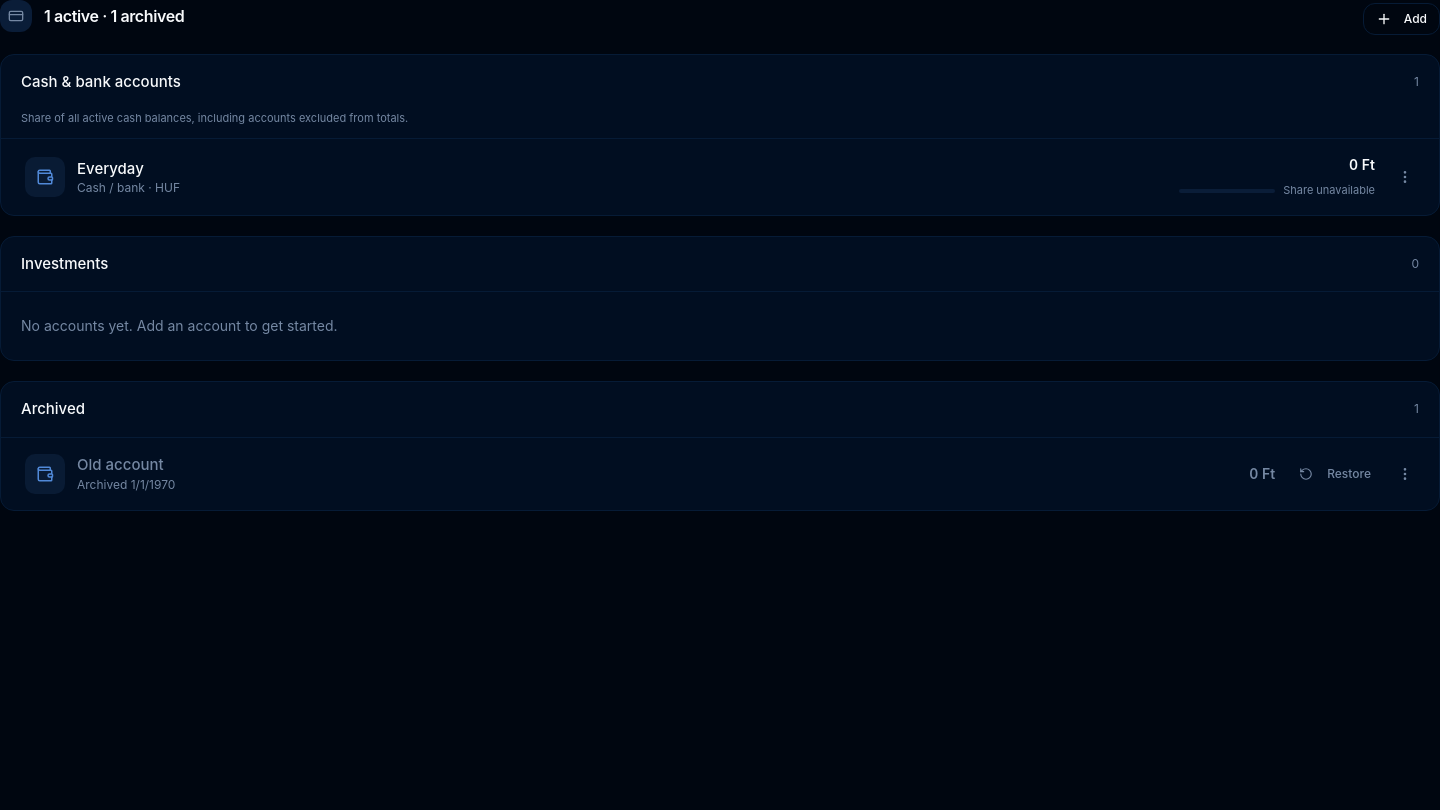
Test case: dedicated account management › tracks semantic changes and reverts all saved fields without writing
Click the button with aria-label "Edit Everyday". click: (45, 177)
box: [17, 147, 1383, 207]
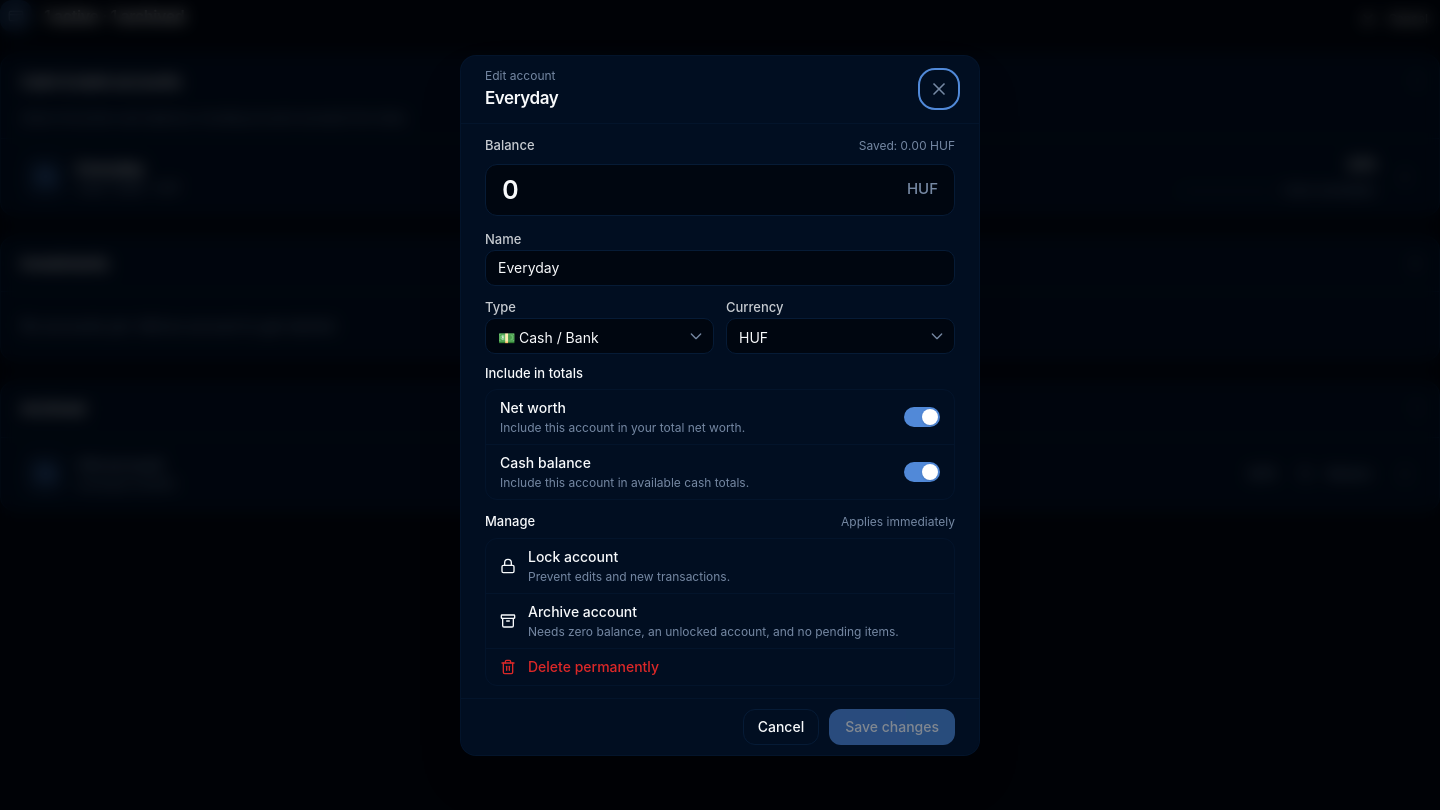
Expected: the button "Save changes" is disabled, [829, 708, 955, 744]
Type "0,00" into the field labelled "Balance". click: (699, 190)
box: [502, 170, 897, 209]
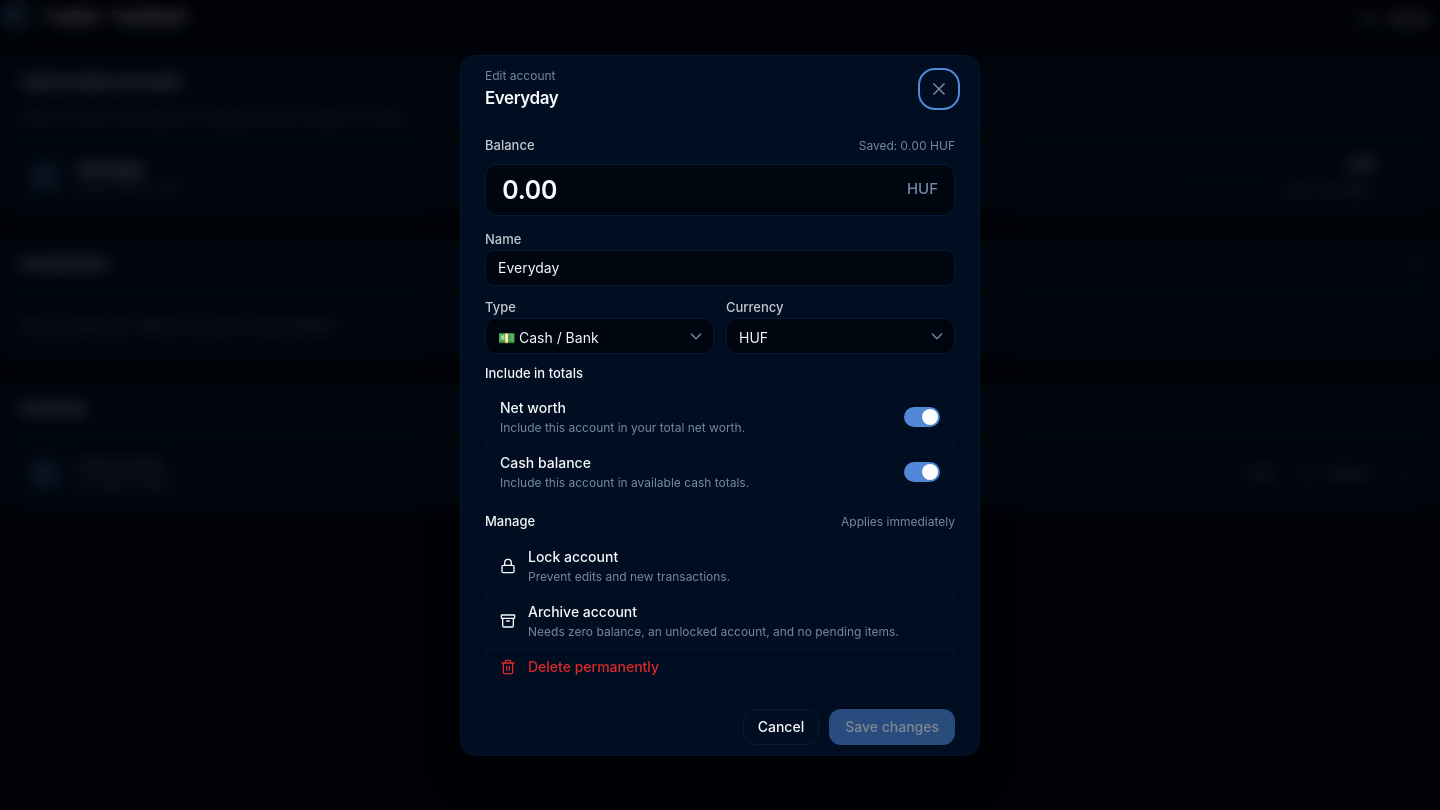
Expected: the button "Save changes" is disabled, [829, 708, 955, 744]
Replace the text in the field labelled "Name" with "Draft". click: (720, 268)
box: [485, 250, 955, 286]
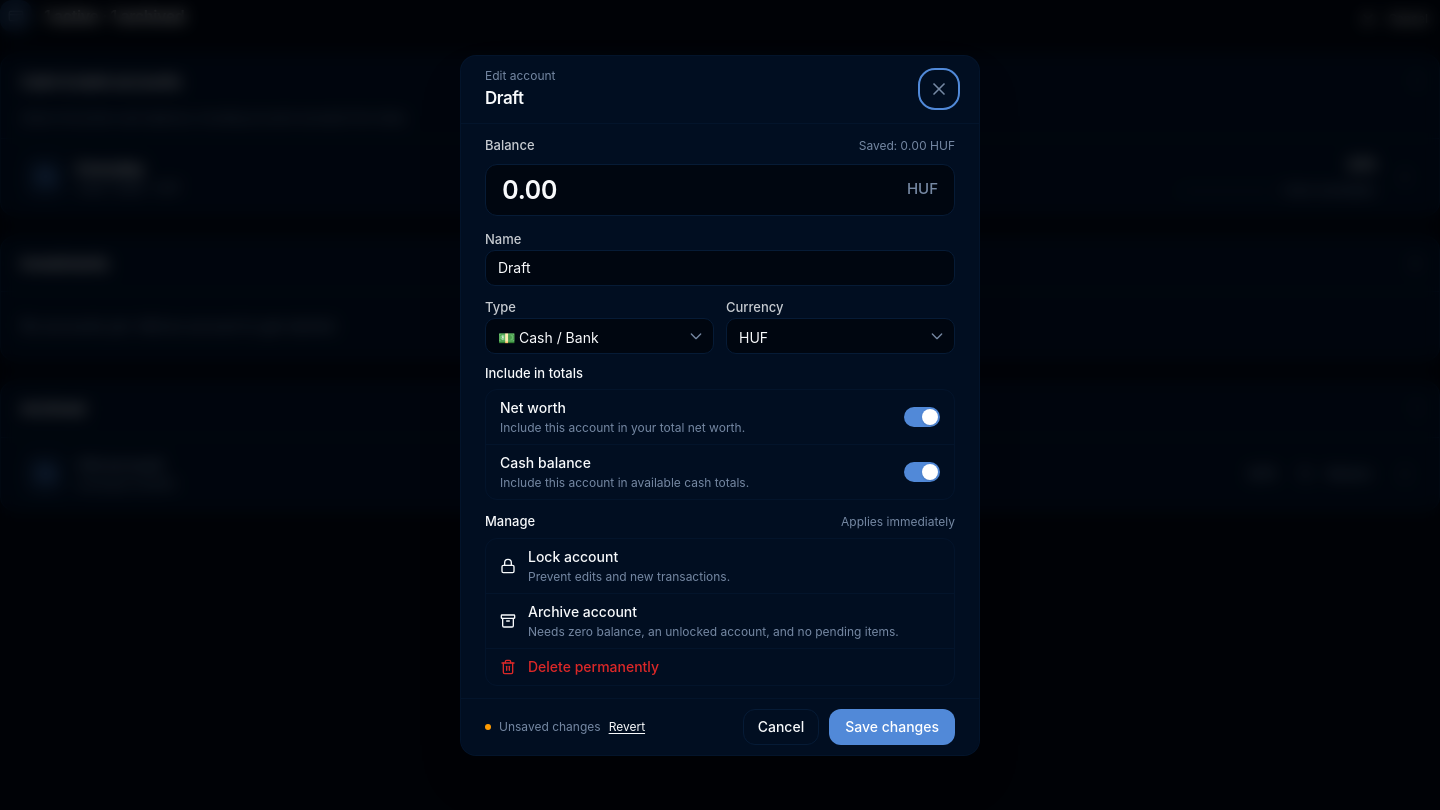
Select "EUR" in the dropdown labelled "Currency". click: (840, 336)
box: [726, 318, 955, 354]
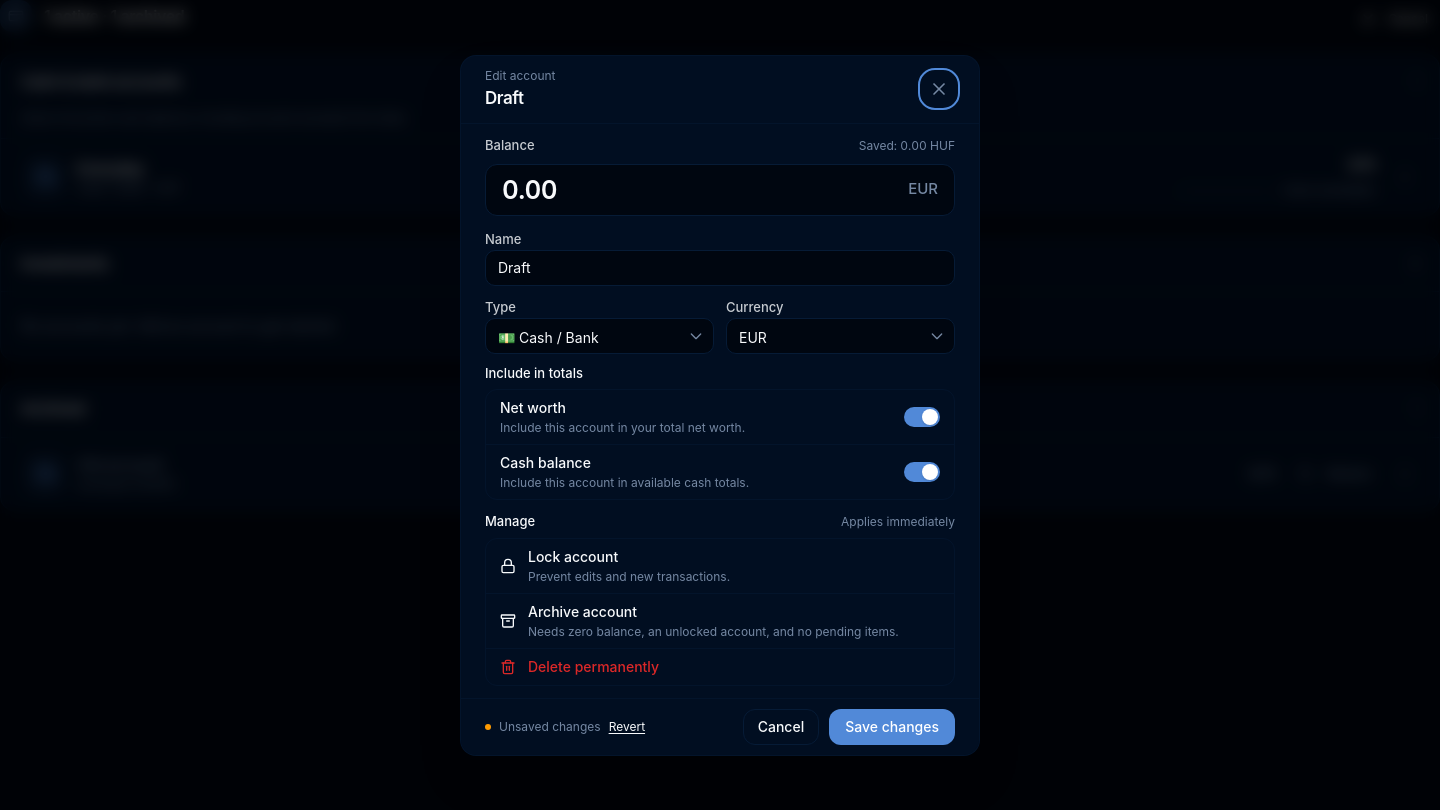
Click the switch labelled "Cash balance". click: (720, 472)
box: [486, 445, 954, 499]
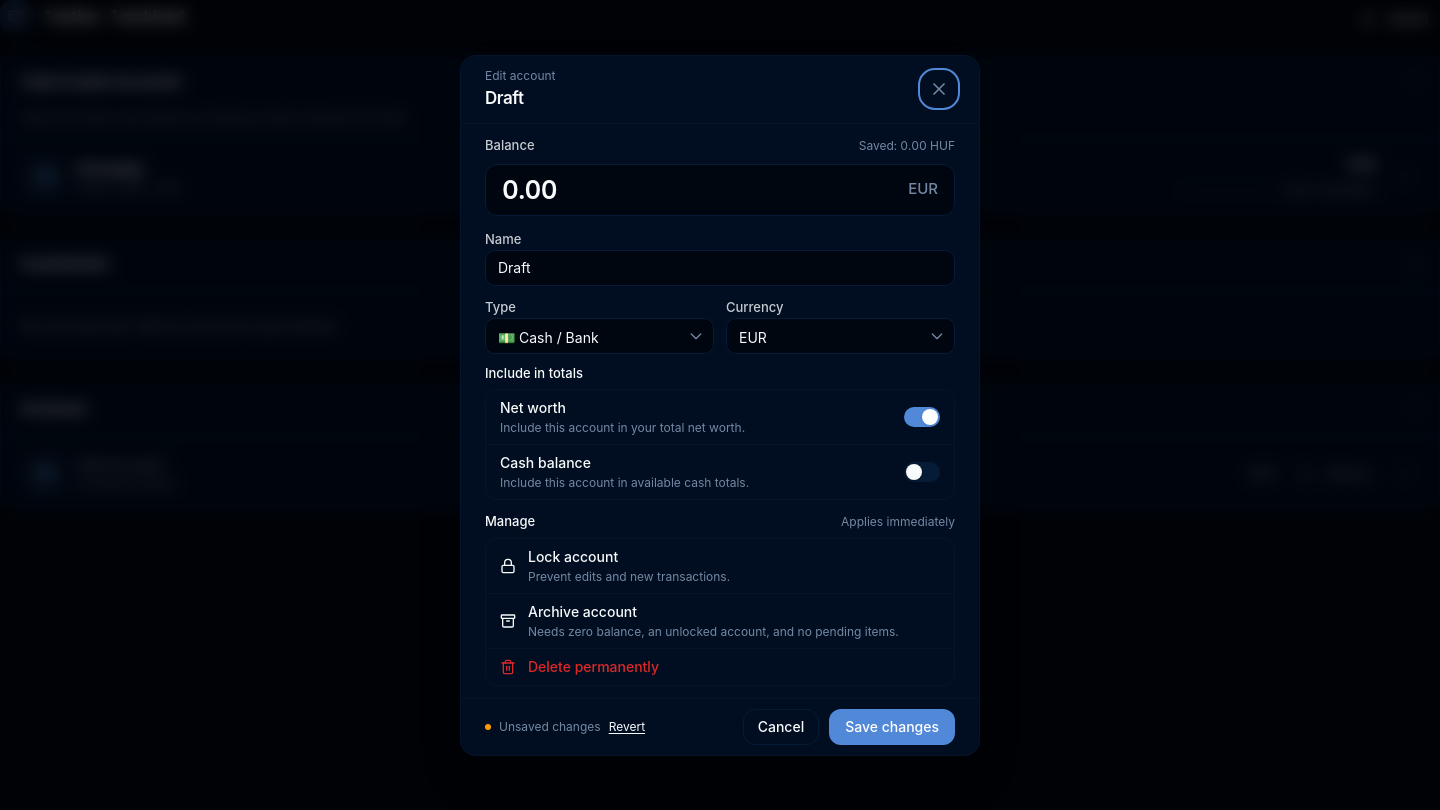
Expected: the text "Unsaved changes" is shown, [499, 718, 601, 734]
Expected: the button "Save changes" is enabled, [829, 708, 955, 744]
Click the button "Revert". click: (627, 726)
box: [609, 718, 645, 734]
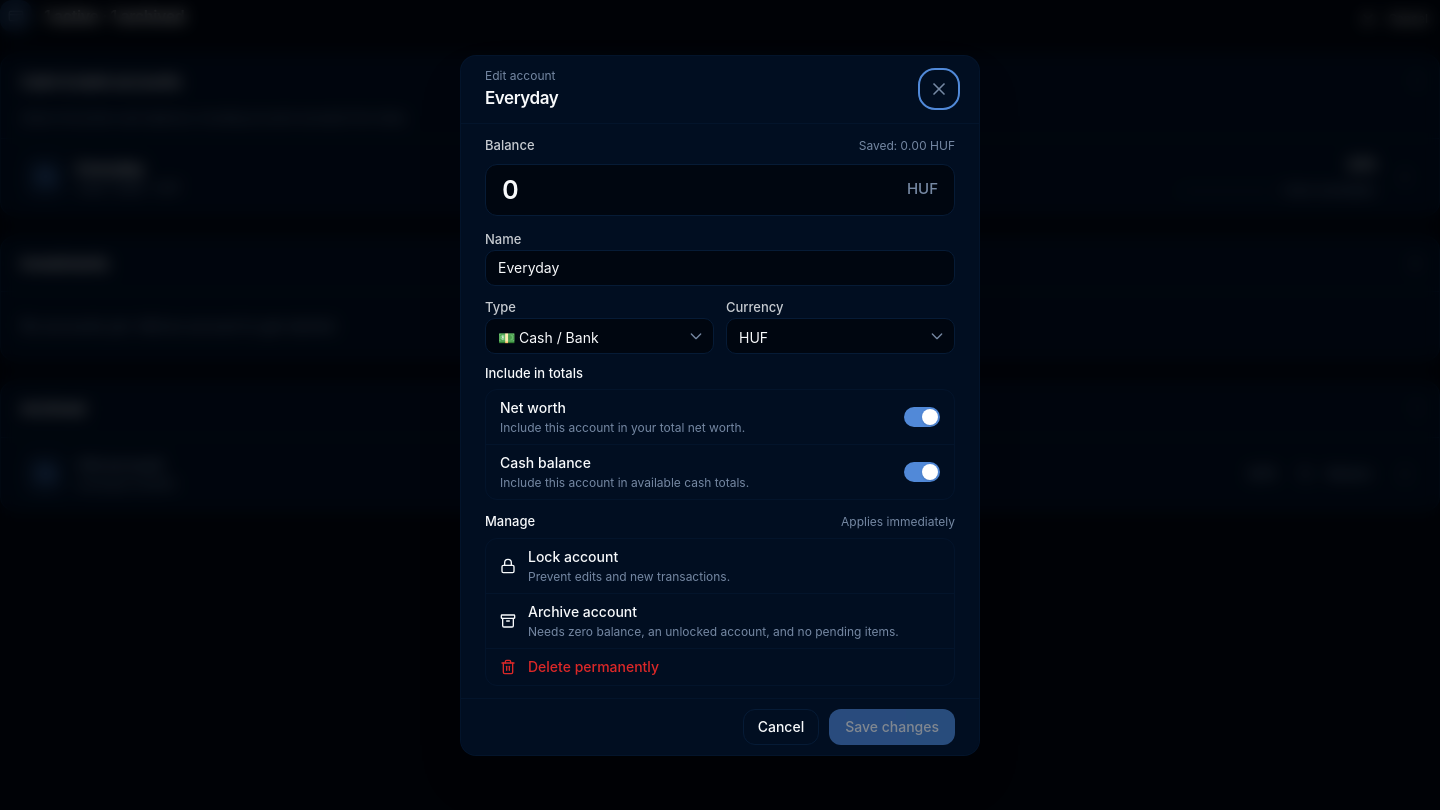
Expected: the switch labelled "Cash balance" is checked, [486, 445, 954, 499]
Expected: the field labelled "Name" holds "Everyday", [485, 250, 955, 286]
Expected: the button "Save changes" is disabled, [829, 708, 955, 744]
